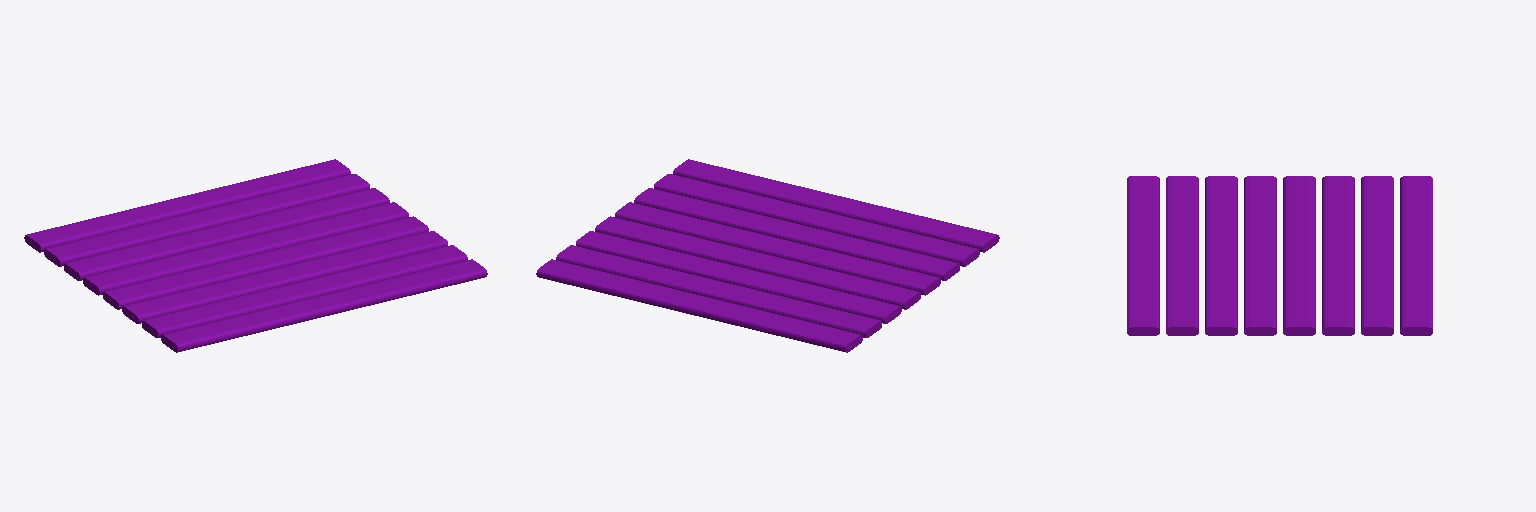
The model's file is seat.obj.
The picture shows the model from 3 angles: view 1: azimuth 30°, elevation 25°; view 2: azimuth 150°, elevation 25°; view 3: azimuth 270°, elevation 25°; orthographic projection.
Parts seen in each view (by area): view 1: seat; view 2: seat; view 3: seat.
Part boxes in pixels (x1,y1,x2,y2): seat: (24,159,487,352); seat: (536,159,999,352); seat: (1127,176,1432,335).
Size of the model in its own units: 13.78 by 0.3616 by 11.81.